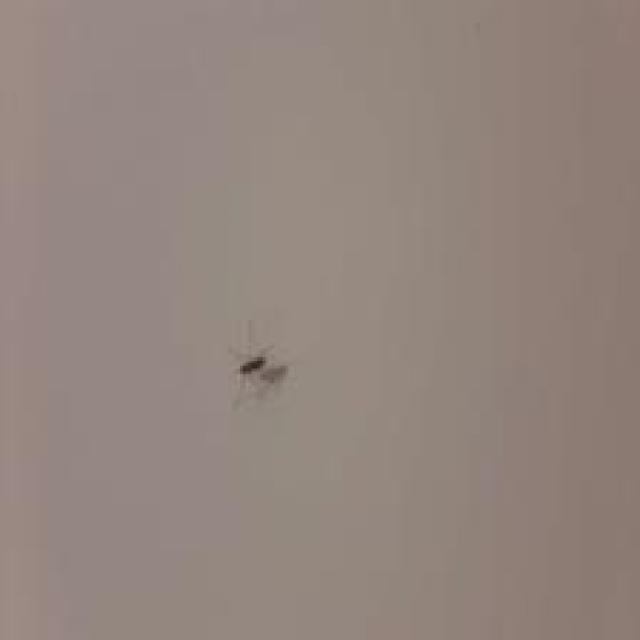Culex: (227, 319, 290, 410)
